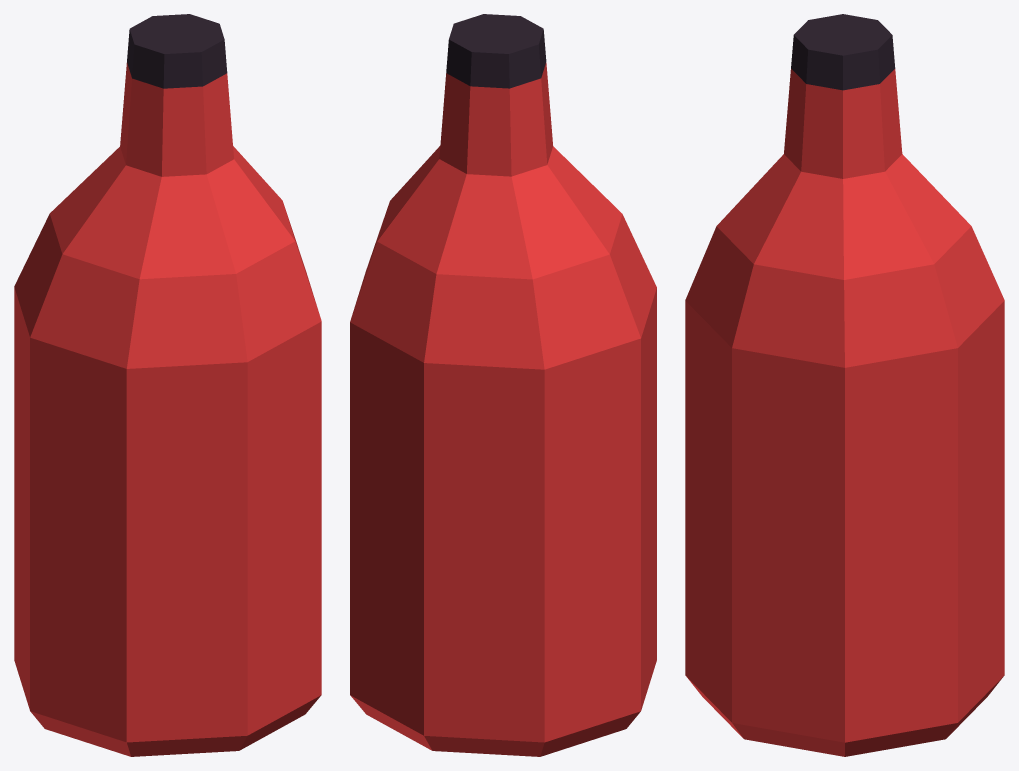
File: Bottle.fbx
The picture shows the model from 3 angles, left to right: view 1: azimuth 30°, elevation 25°; view 2: azimuth 150°, elevation 25°; view 3: azimuth 270°, elevation 25°; orthographic projection.
Visible parts, largest first — view 1: Cylinder; view 2: Cylinder; view 3: Cylinder.
Boxes of the visible parts, left/top/right/bottom form: Cylinder: left=14, top=14, right=321, bottom=756; Cylinder: left=350, top=14, right=656, bottom=756; Cylinder: left=685, top=14, right=1004, bottom=756.
Size of the model in its own units: 55.95 by 129 by 55.95.
